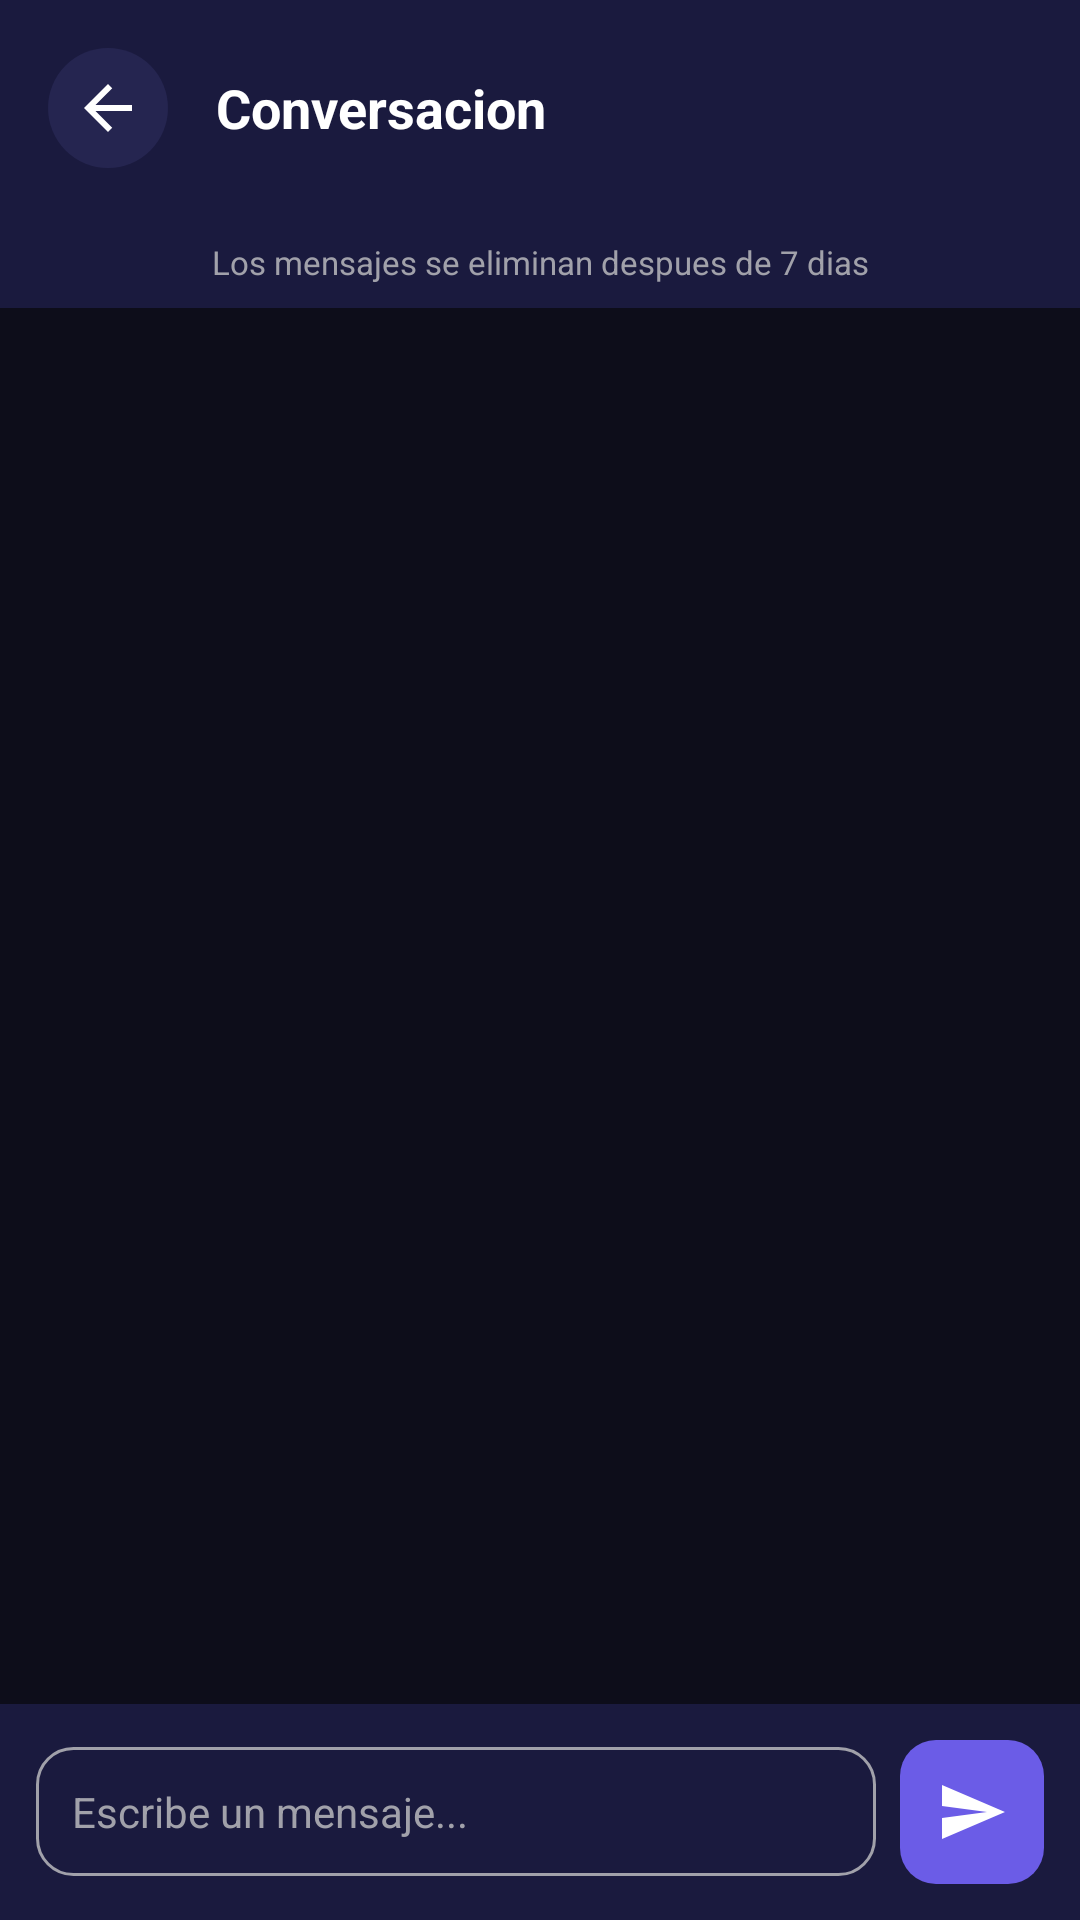

Where icons sit on this 1080x1920 app screen, as (x1, y1, x2, y2):
Enviar: (900, 1740, 1044, 1884)
Volver: (48, 48, 168, 168)
